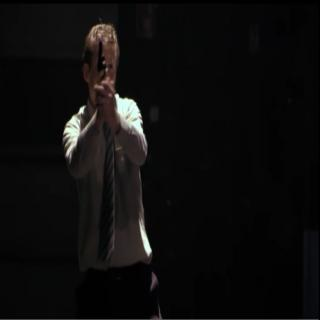gun: (91, 36, 112, 100)
